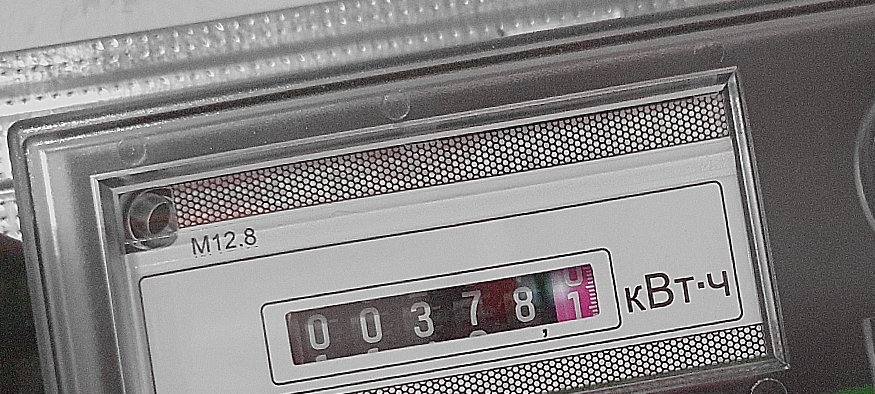0: (303, 308, 335, 351), (355, 302, 385, 344), (561, 263, 585, 287)
1: (563, 286, 586, 320)
3: (406, 296, 437, 340)
7: (458, 286, 486, 327)
8: (509, 281, 538, 324)
screen: (261, 242, 622, 377)
